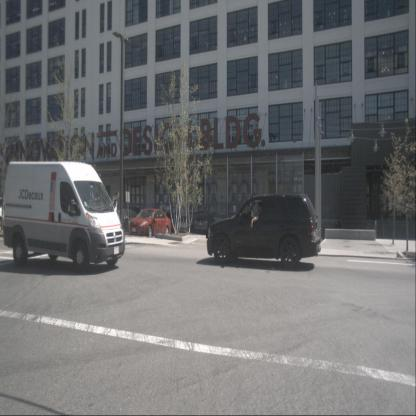human-pedestrian-adult: (110, 192, 120, 242)
vehicle-car: (2, 160, 126, 274), (207, 193, 321, 269), (128, 208, 172, 239), (107, 208, 142, 236), (194, 212, 217, 235), (174, 215, 192, 235)
